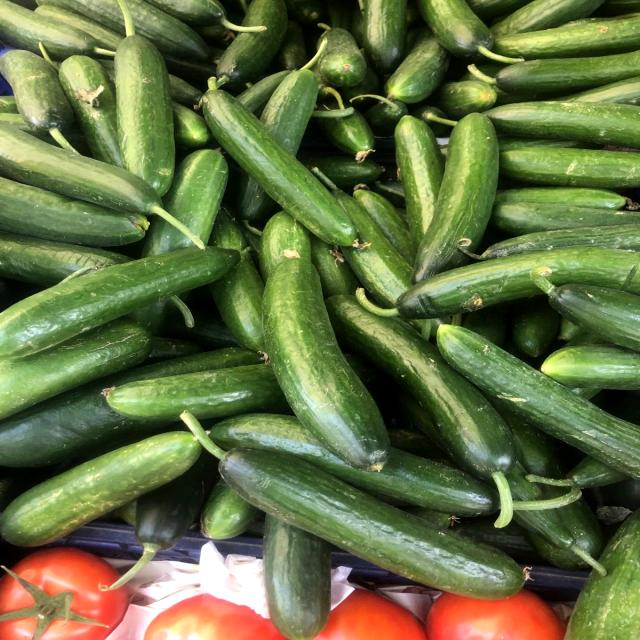cucumber: (176, 409, 537, 603), (248, 251, 401, 477), (197, 71, 376, 254), (0, 425, 223, 557), (392, 104, 519, 287), (97, 22, 195, 198)
tomato: (0, 542, 151, 640)
